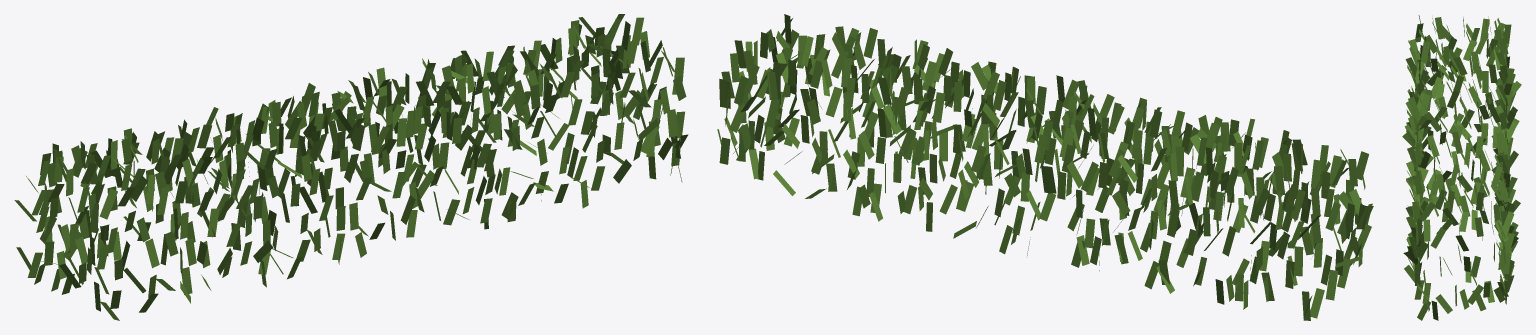
File: WallHedge4.glb
3 renders of one model, left to right at view 1: azimuth 30°, elevation 25°; view 2: azimuth 150°, elevation 25°; view 3: azimuth 270°, elevation 25°, orthographic. The views are drawn at different scales.
Visible parts, largest first — view 1: WallHedge4; view 2: WallHedge4; view 3: WallHedge4.
Boxes of the visible parts, x1,y1,x2,y2 form: WallHedge4: (14,14,688,320); WallHedge4: (717,14,1373,320); WallHedge4: (1402,15,1521,320).
Bounding box in the file's own units: 4.76 × 0.9822 × 1.09.
